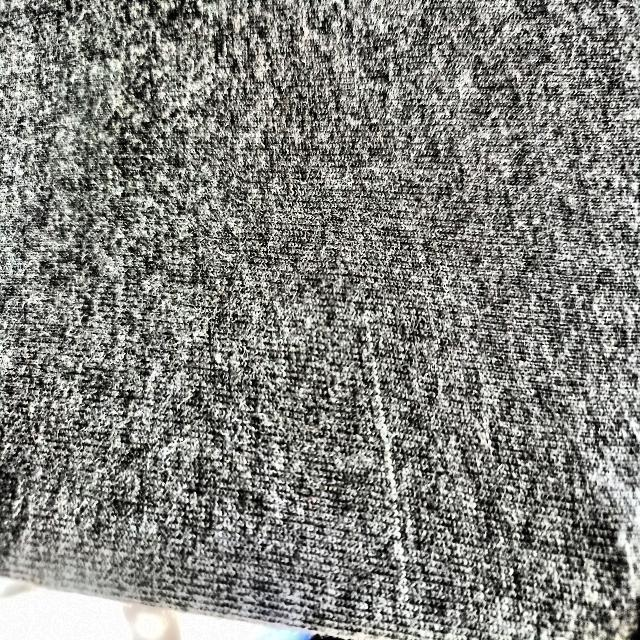cut: (210, 346, 228, 371)
selvet: (356, 321, 429, 640)
